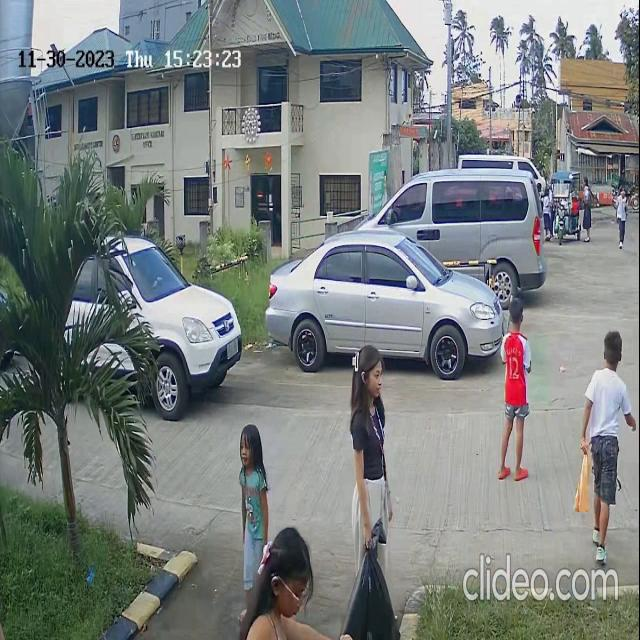garbage: (337, 524, 403, 640)
person: (593, 327, 625, 473), (234, 424, 266, 526), (502, 300, 532, 398), (350, 342, 387, 399), (611, 182, 628, 248)
